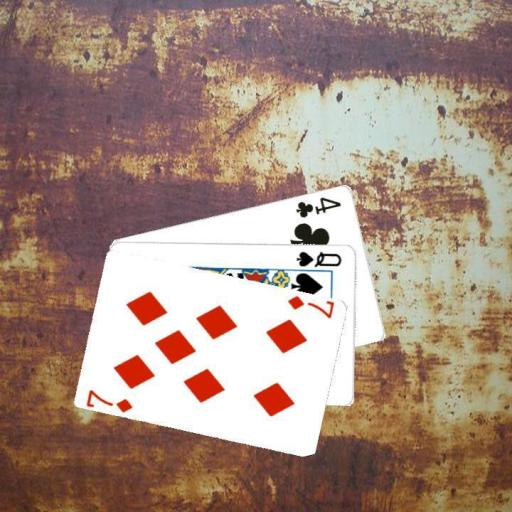card-corner: (284, 292, 336, 320), (84, 386, 135, 413), (293, 193, 343, 219), (294, 248, 344, 268)
